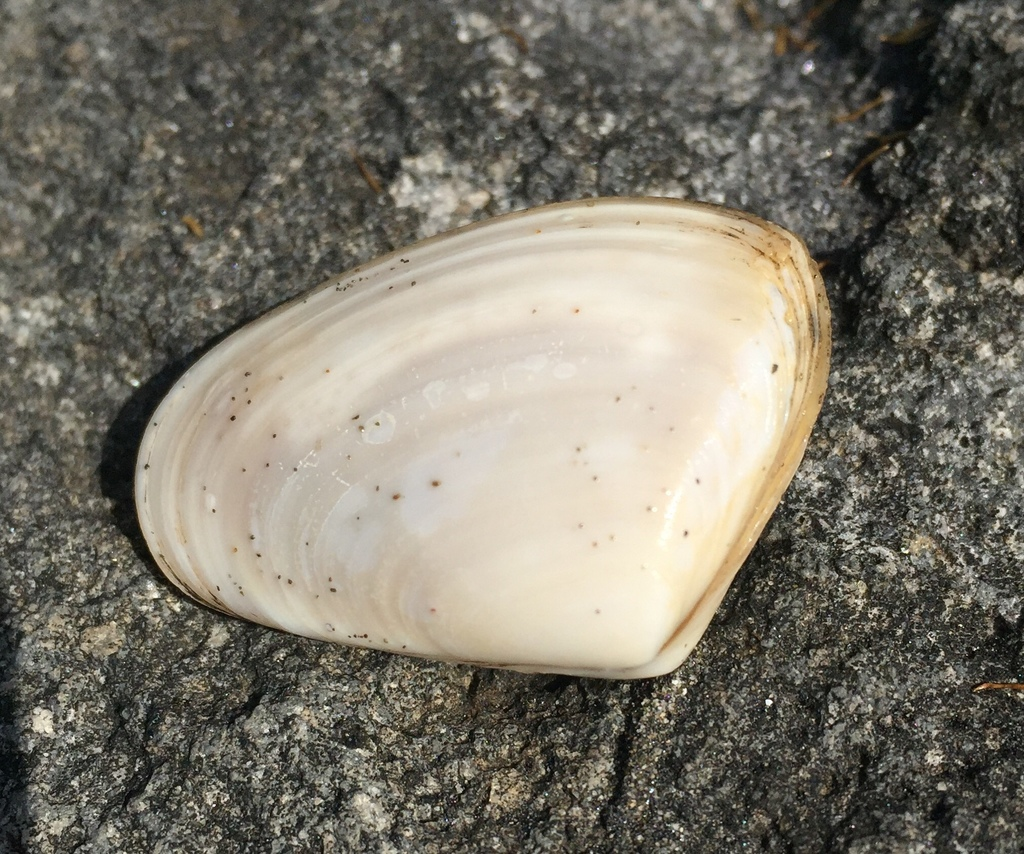tuatua: (119, 194, 839, 694)
